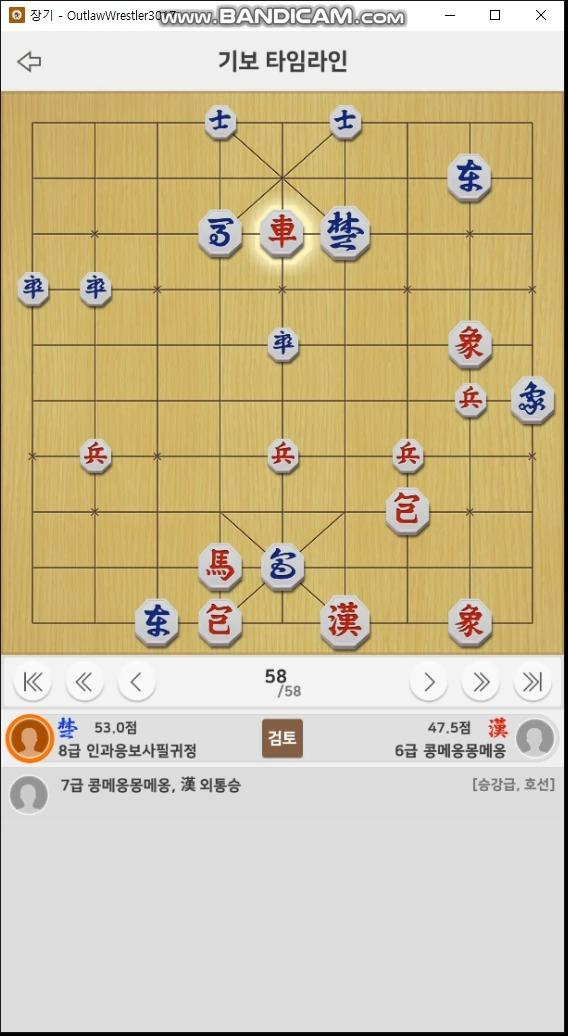cha_green: (134, 597, 178, 644), (448, 153, 490, 202)
cha_red: (259, 211, 305, 257)
jol_green: (78, 270, 116, 308), (266, 327, 300, 365), (16, 272, 51, 307)
jol_red: (392, 437, 426, 476), (79, 436, 112, 475), (266, 438, 300, 475), (456, 384, 486, 419)
ma_green: (199, 211, 243, 254)
ma_red: (198, 541, 242, 591)
po_green: (261, 545, 304, 588)
po_red: (387, 489, 427, 537), (199, 601, 242, 645)
sa_green: (328, 106, 362, 140), (204, 105, 235, 137)
sang_green: (511, 377, 555, 423)
sang_red: (447, 320, 493, 369), (449, 598, 491, 644)
wang_green: (320, 206, 370, 258)
wang_red: (320, 599, 370, 644)
